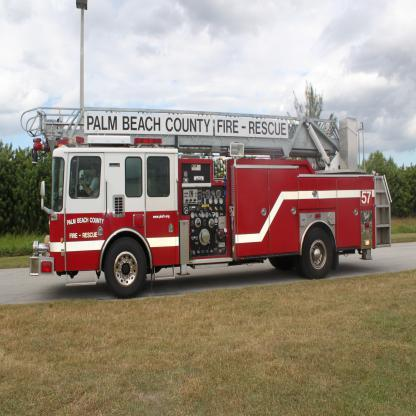fire-truck: (7, 82, 412, 364)
